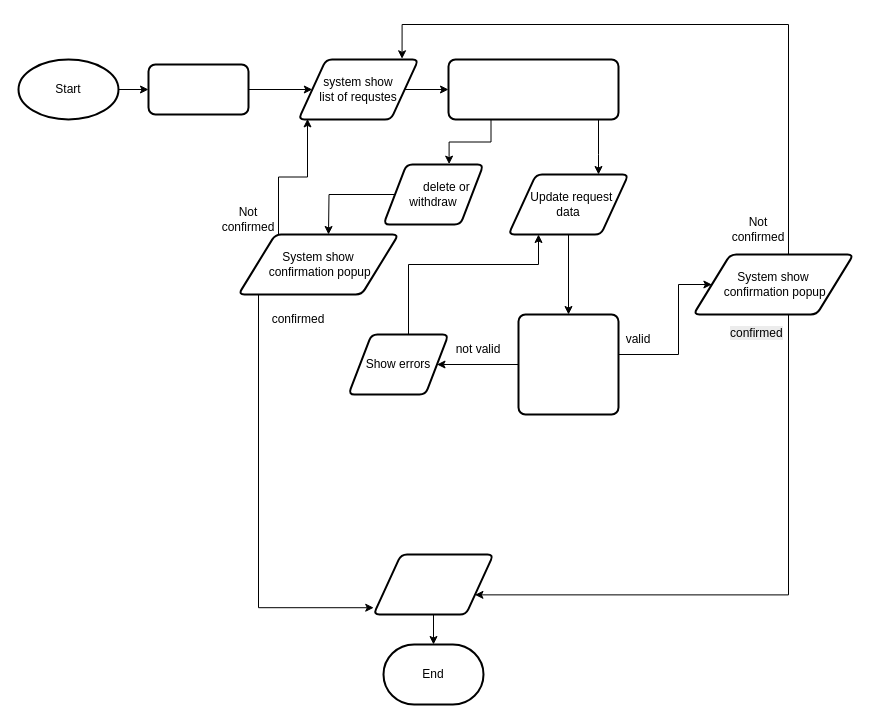
Some shapes in this 871 by 723 pixel diagram are drawn without their labels. Each missing label, with the centre of its shape:
choose pending request: (x=533, y=89)
employee Login: (x=198, y=89)
system show updated list of requstes: (x=433, y=584)
Validate updated data: (x=568, y=364)
